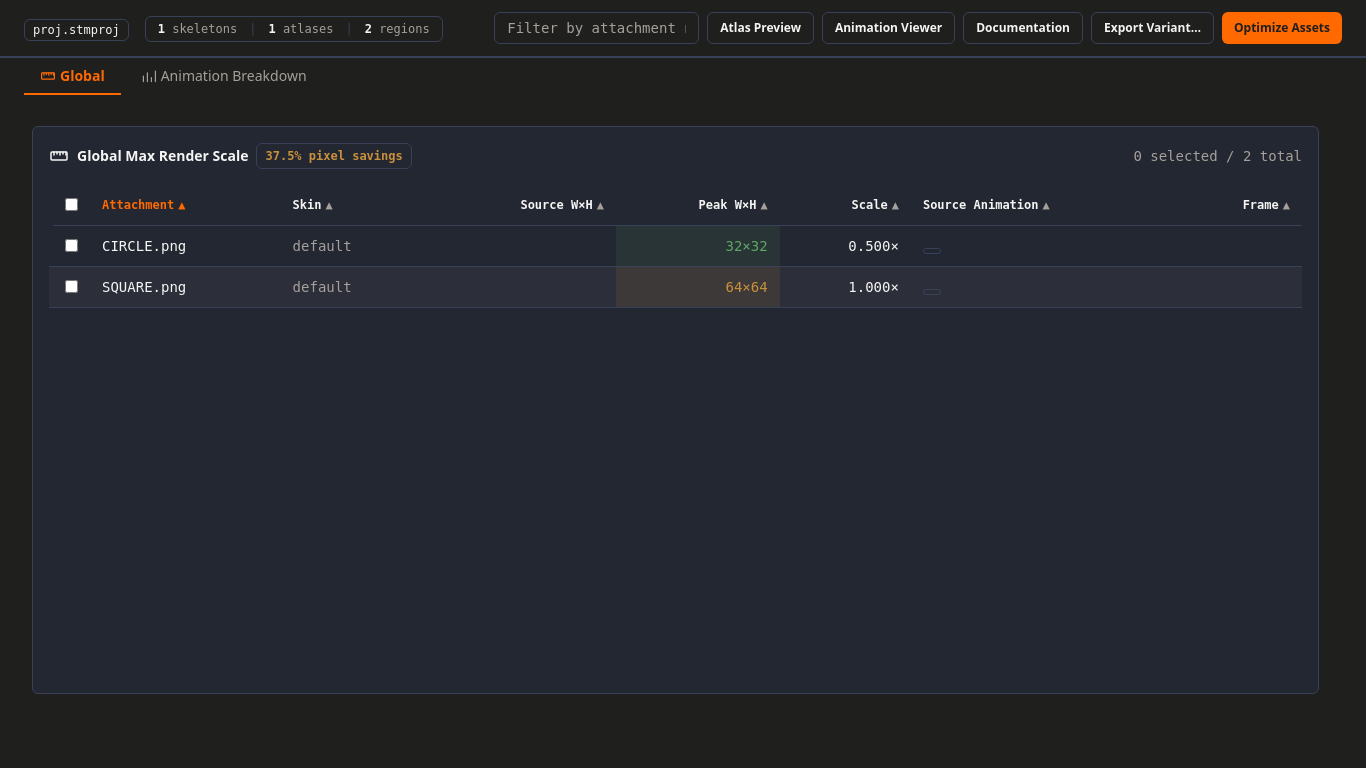
it: Phase 53 — variantRows persistence (SCALEUI-03) › variant rows dirty: freshly opened project is NOT dirty (D-03 scale-projection), then editing a row marks dirty
Expected: the text "•" is not shown
Click the button "Export Variant…": {"x": 1152, "y": 28} x1=1091 y1=12 x2=1214 y2=44
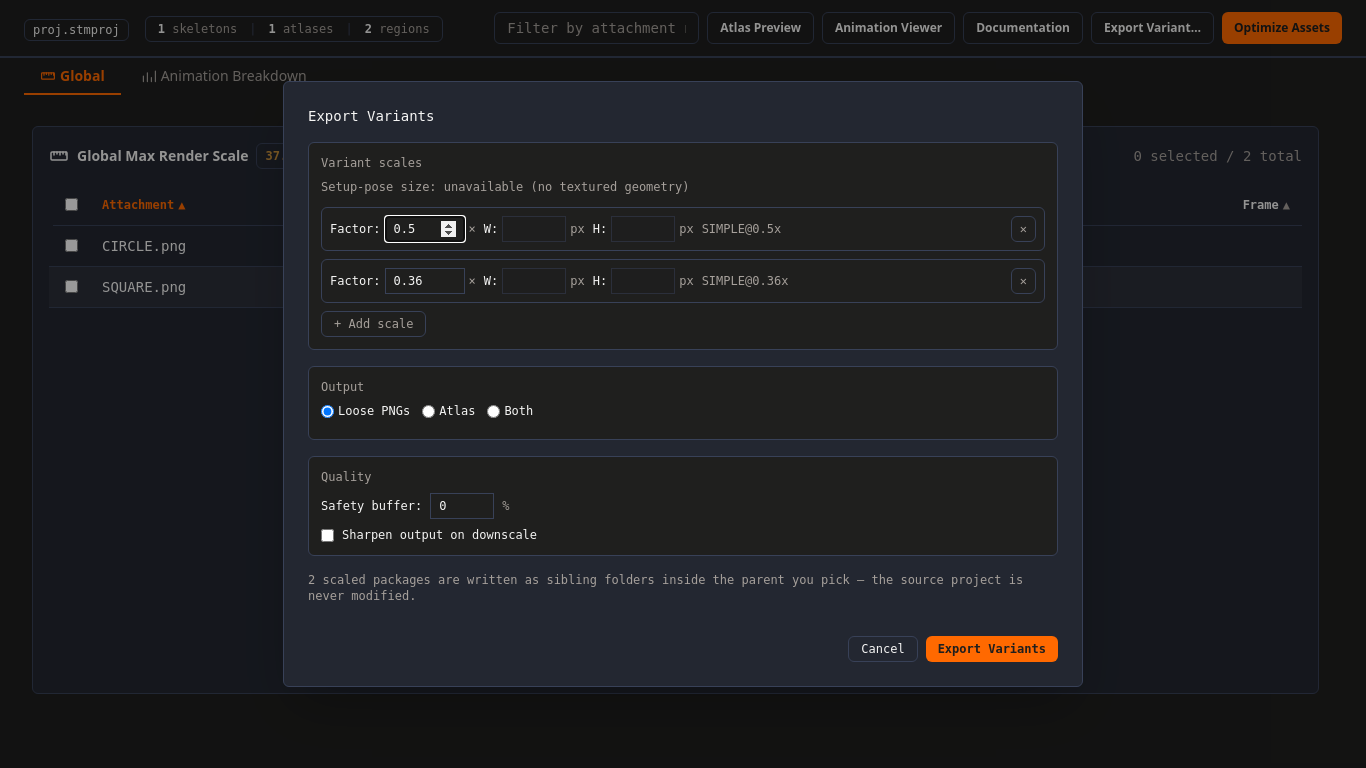
Note: Change 0.36 → 0.4 (a distinct, still-valid sub-1 factor).
Replace the text in the number field with test id "variant-factor-1" with "0.4": {"x": 425, "y": 281} x1=385 y1=268 x2=465 y2=294
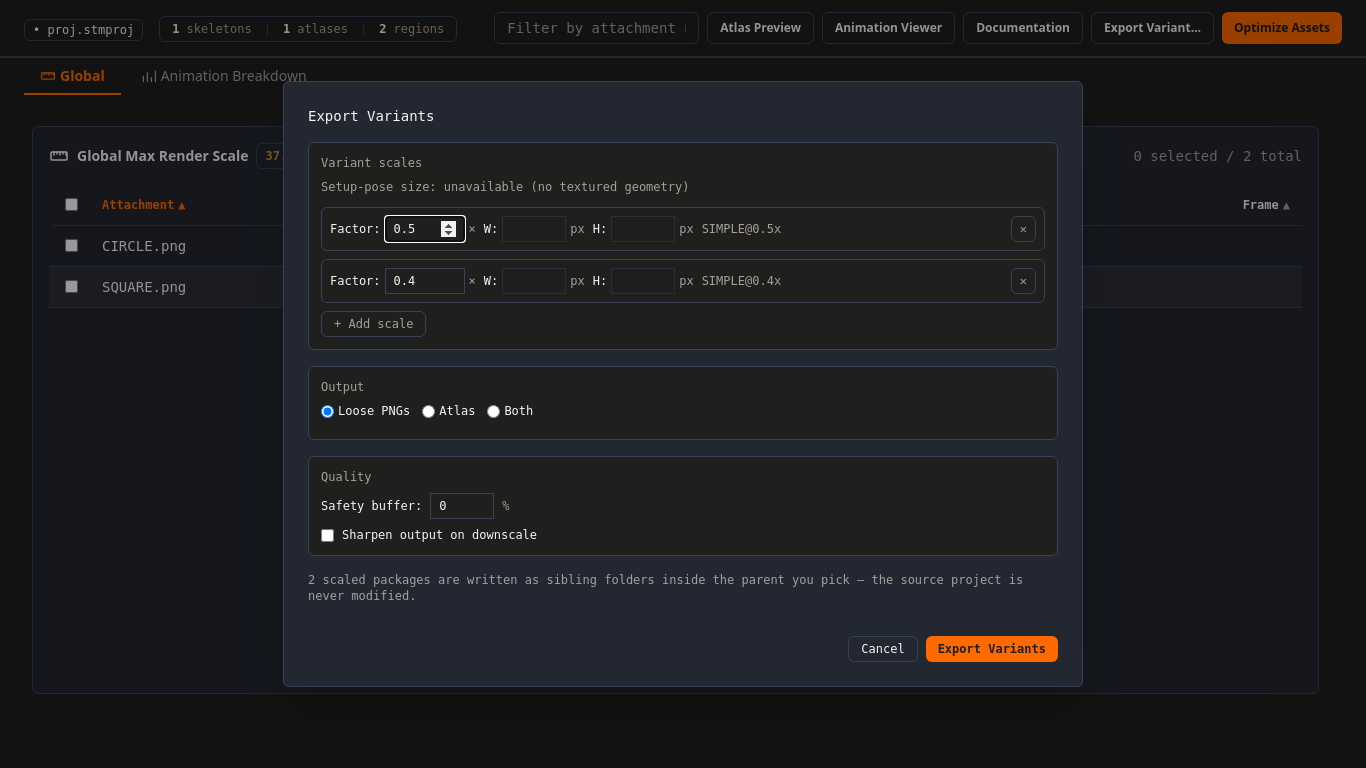
Result: the text "• proj.stmproj" is shown at x1=24 y1=18 x2=143 y2=40
